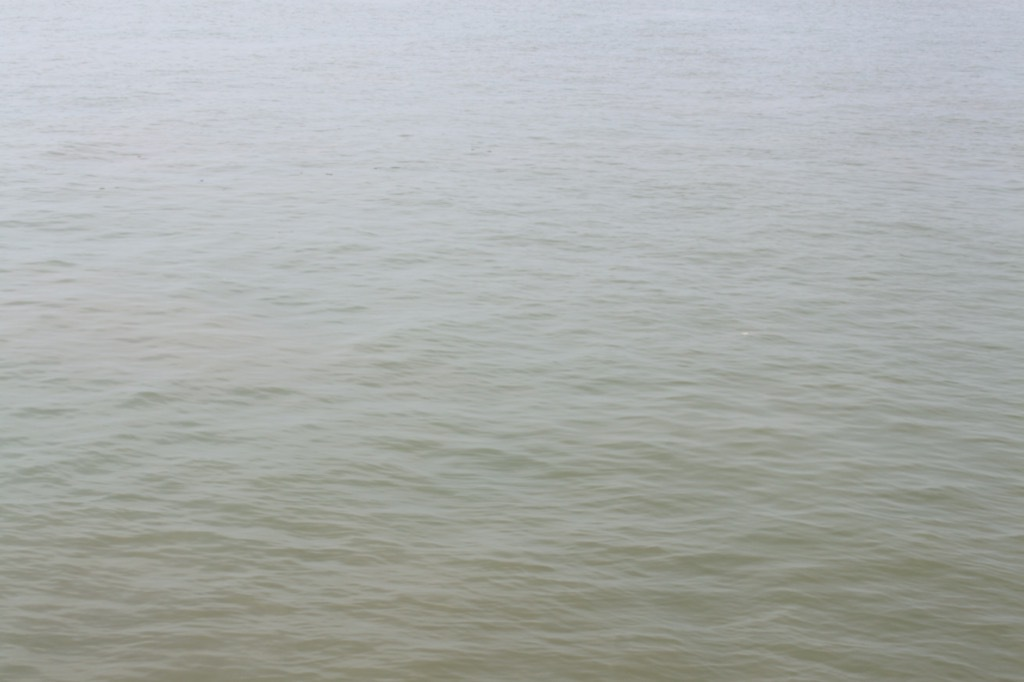plastic: (738, 326, 755, 341)
